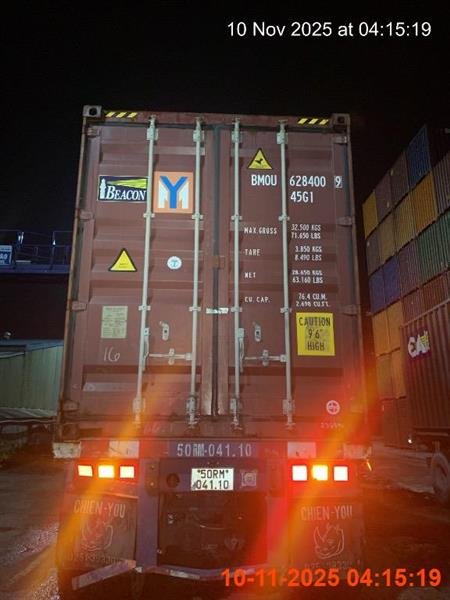hole: (50, 107, 376, 598)
